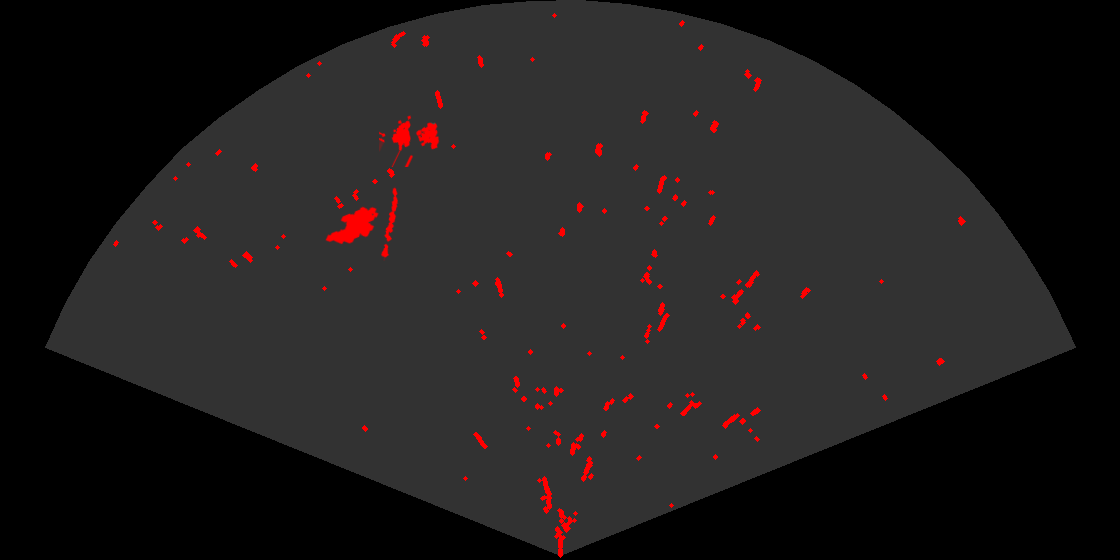AUV: (324, 205, 380, 246)
cage: (379, 114, 441, 167)
chain: (379, 186, 400, 261)
